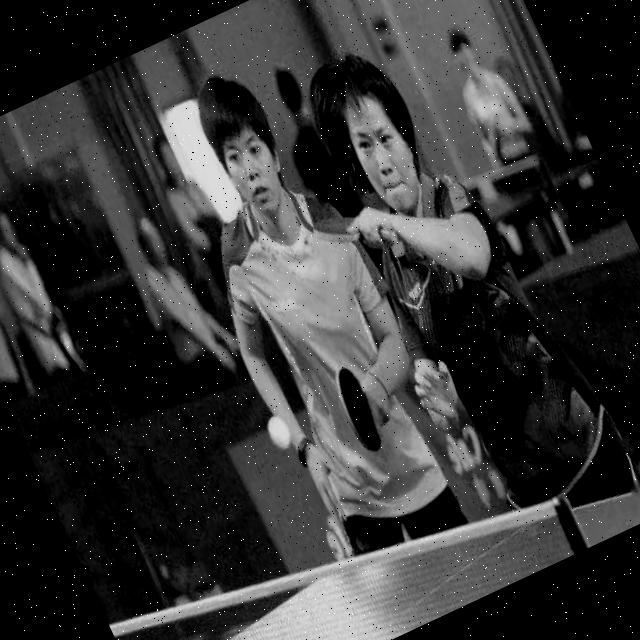ping-pong-ball: (260, 406, 300, 455)
